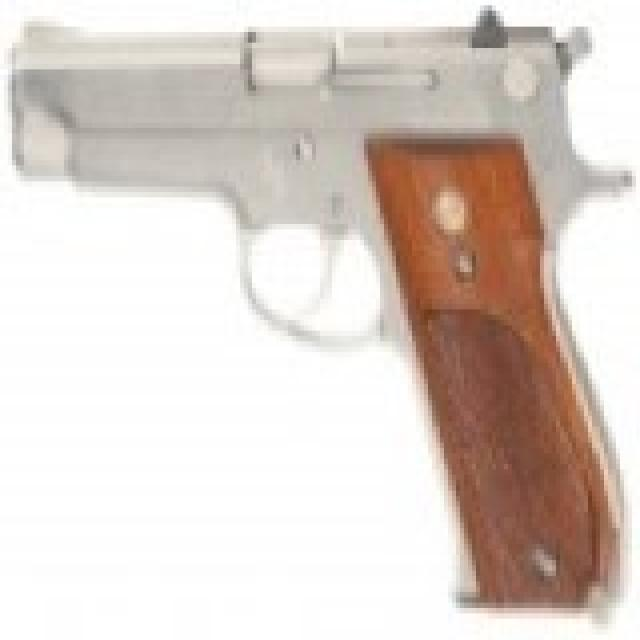pistol: (12, 0, 632, 597)
